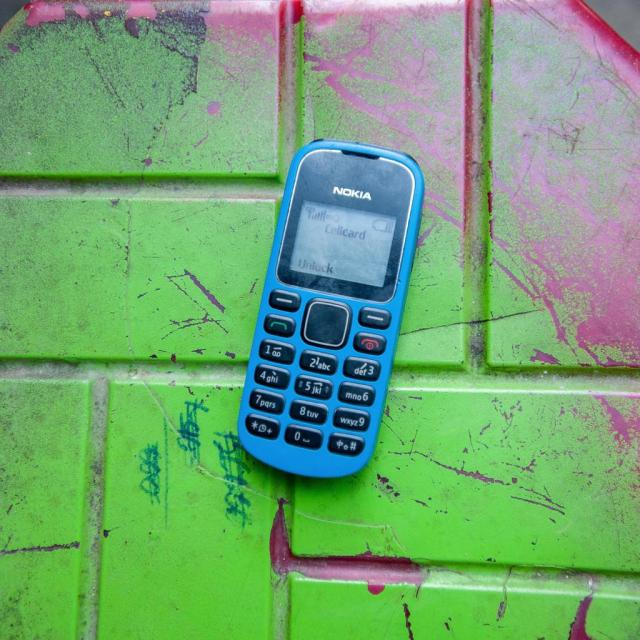Phone: (235, 137, 427, 482)
